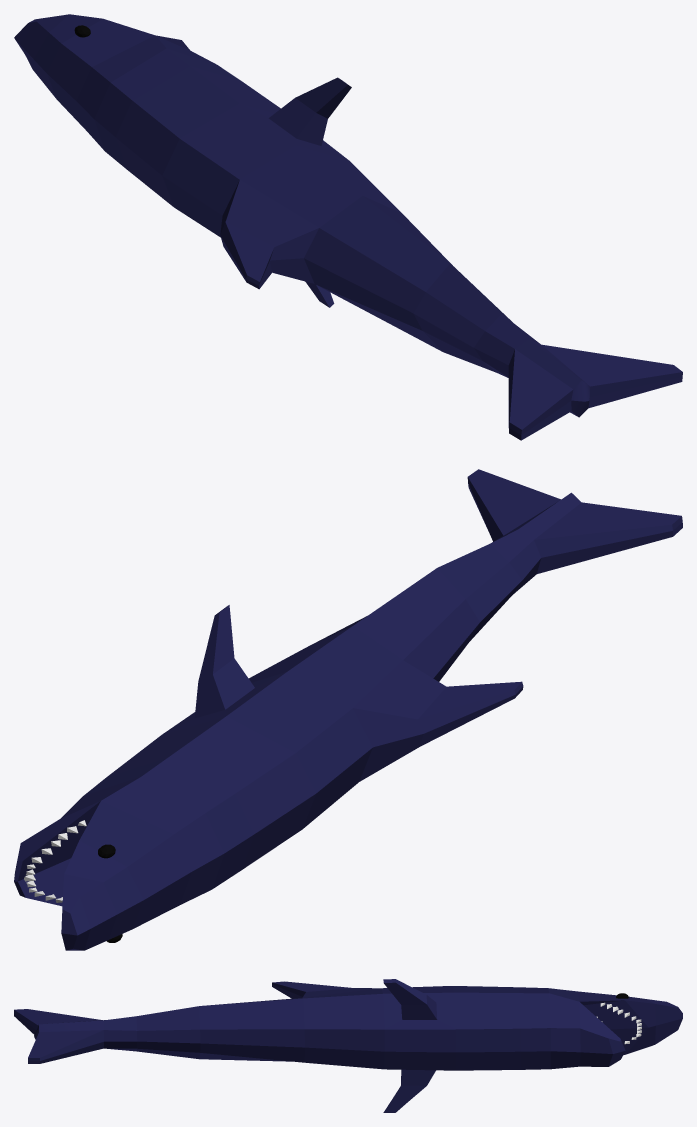
The model's file is shark_basic.glb.
3 views of the same model, one above another, from view 1: azimuth 30°, elevation 25°; view 2: azimuth 150°, elevation 25°; view 3: azimuth 270°, elevation 25° (orthographic). The views are drawn at different scales.
Visible parts, largest first — view 1: 0.109; view 2: 0.109, 1.066; view 3: 0.109, 1.066.
Boxes of the visible parts, x1,y1,x2,y2 form: 0.109: [14, 14, 682, 440]; 0.109: [14, 469, 682, 950]; 1.066: [24, 820, 86, 902]; 0.109: [14, 979, 682, 1112]; 1.066: [596, 1002, 641, 1044].
Size of the model in its own units: 0.2538 by 0.2258 by 0.9811.
